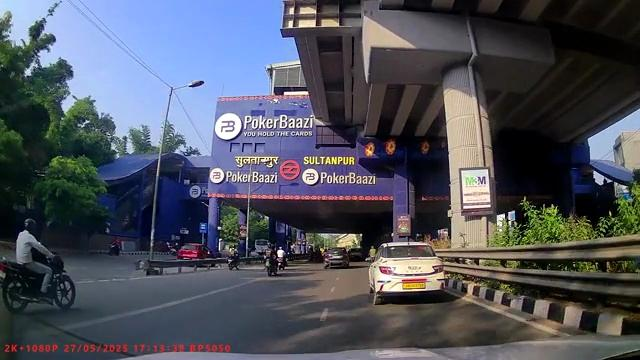motorcycle_with_helmet: (3, 217, 77, 316)
